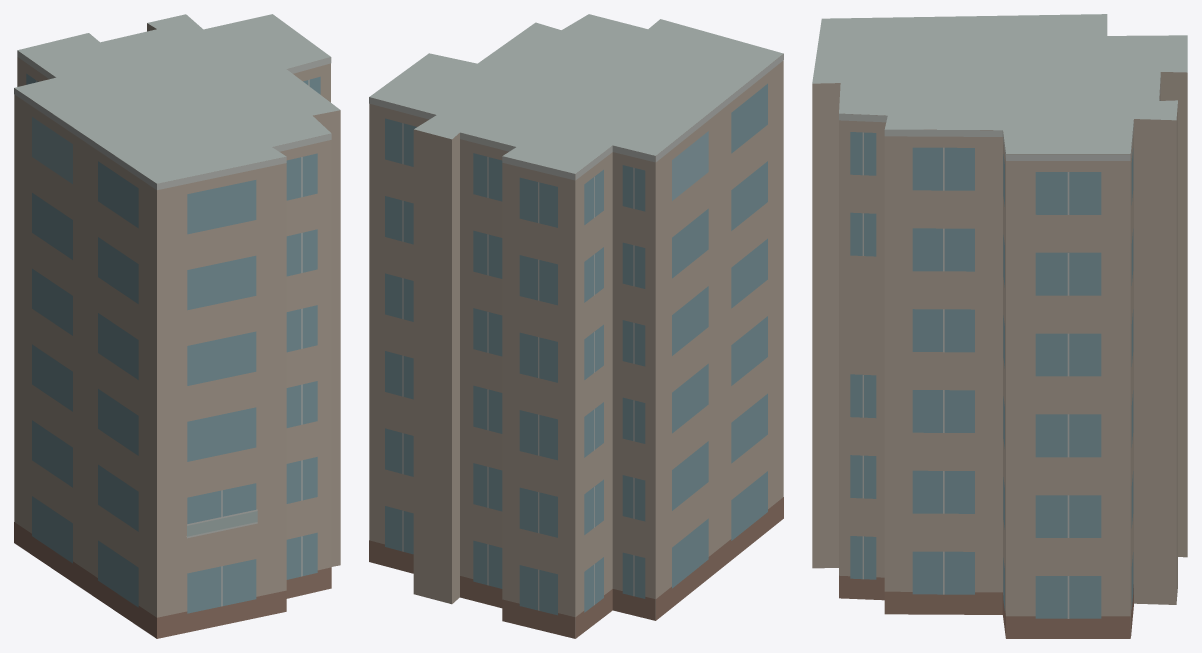
Rendered from survey-upis-32651523.glb.
3 views of the same model, side by side, from view 1: azimuth 30°, elevation 25°; view 2: azimuth 150°, elevation 25°; view 3: azimuth 270°, elevation 25° (orthographic). The views are drawn at different scales.
Visible parts, largest first — view 1: survey-upis-32651523.tmp; view 2: survey-upis-32651523.tmp; view 3: survey-upis-32651523.tmp.
Boxes of the visible parts, left/top/right/bottom form: survey-upis-32651523.tmp: left=14, top=14, right=340, bottom=638; survey-upis-32651523.tmp: left=369, top=14, right=783, bottom=638; survey-upis-32651523.tmp: left=812, top=14, right=1187, bottom=638.
Bounding box in the file's own units: 10.67 × 17.2 × 12.09.
